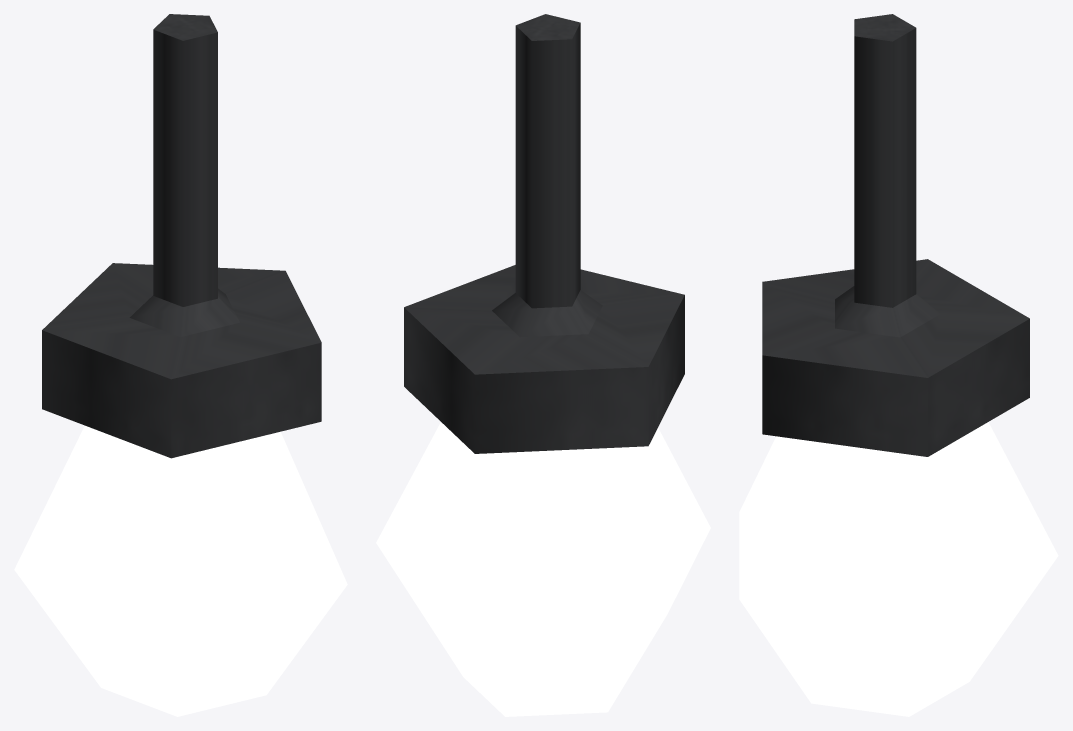
The model's file is lamp.glb.
The picture shows the model from 3 angles, left to right: view 1: azimuth 30°, elevation 25°; view 2: azimuth 150°, elevation 25°; view 3: azimuth 270°, elevation 25°; orthographic projection.
Visible parts, largest first — view 1: Cylinder.001; view 2: Cylinder.001; view 3: Cylinder.001.
Part boxes in pixels (x1,y1,x2,y2): Cylinder.001: (14,14,347,716); Cylinder.001: (376,14,710,716); Cylinder.001: (739,14,1058,716).
Size of the model in its own units: 0.156 by 0.3354 by 0.1484.
2 materials, 1 textured.
